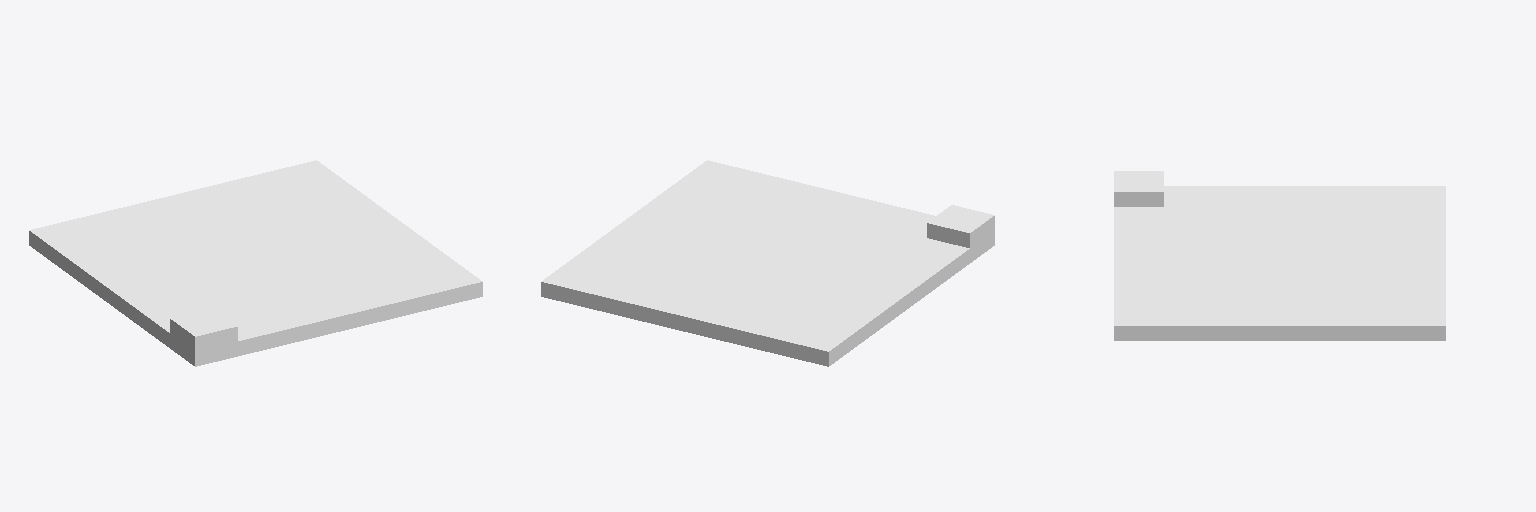
Rendered from house-5-roof_flat_inner_corner.obj.
The picture shows the model from 3 angles: view 1: azimuth 30°, elevation 25°; view 2: azimuth 150°, elevation 25°; view 3: azimuth 270°, elevation 25°; orthographic projection.
Visible parts, largest first — view 1: roof_flat_inner_corner; view 2: roof_flat_inner_corner; view 3: roof_flat_inner_corner.
Part boxes in pixels (x1,y1,x2,y2): roof_flat_inner_corner: (29,160,482,366); roof_flat_inner_corner: (541,160,994,366); roof_flat_inner_corner: (1114,171,1445,340).
Bounding box in the file's own units: 2 × 0.2 × 2.